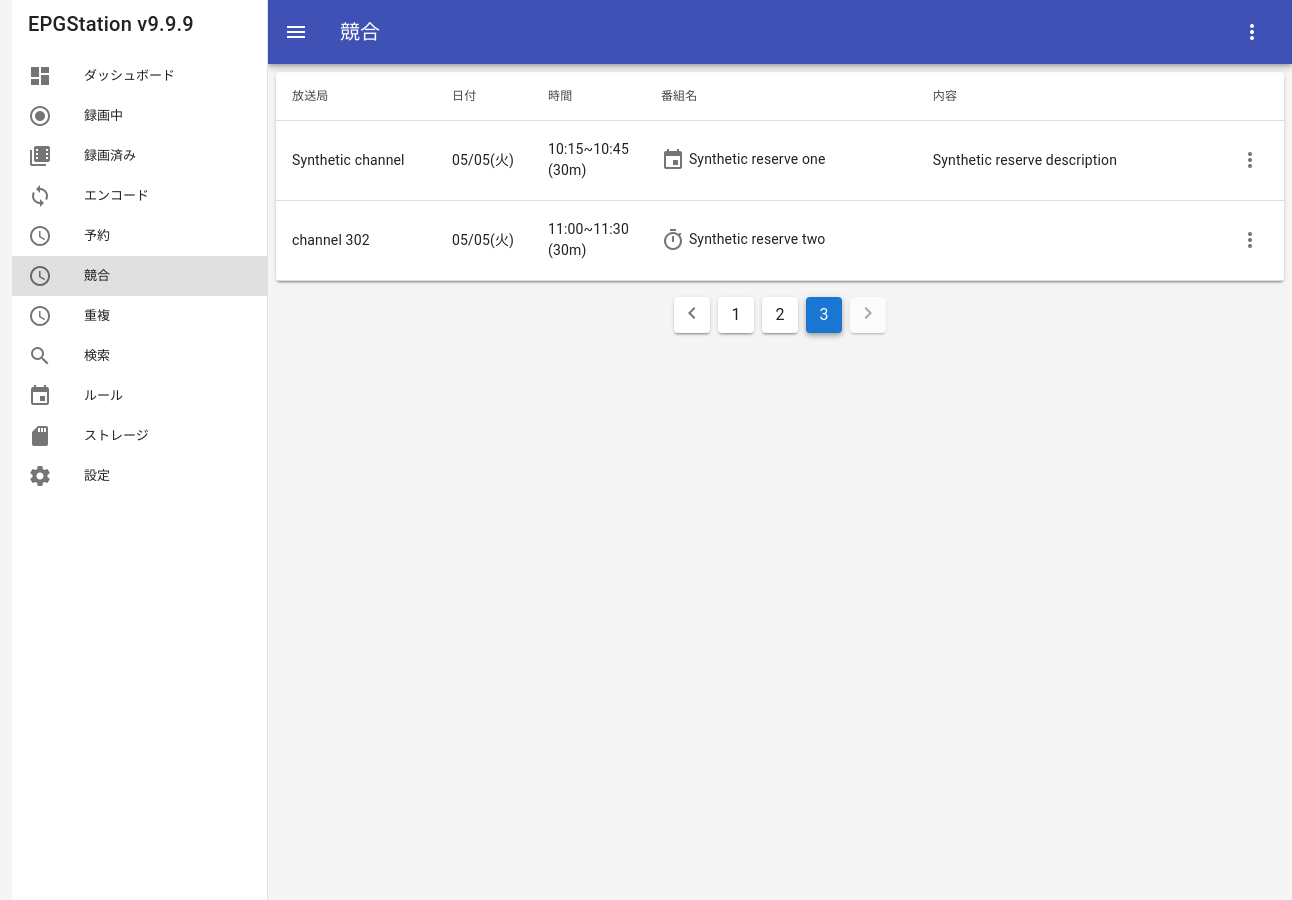
Reserves dialog and keyboard interaction › [AC 3.4] toggles edit selection from keyboard without opening the dialog
Expected: the text "Synthetic reserve one" is shown, [689, 151, 826, 167]
What coordinates should you click on to do the following:
click the button named "予約メニュー"
I would click on:
 (1252, 32)
Its box is [1228, 8, 1276, 56].
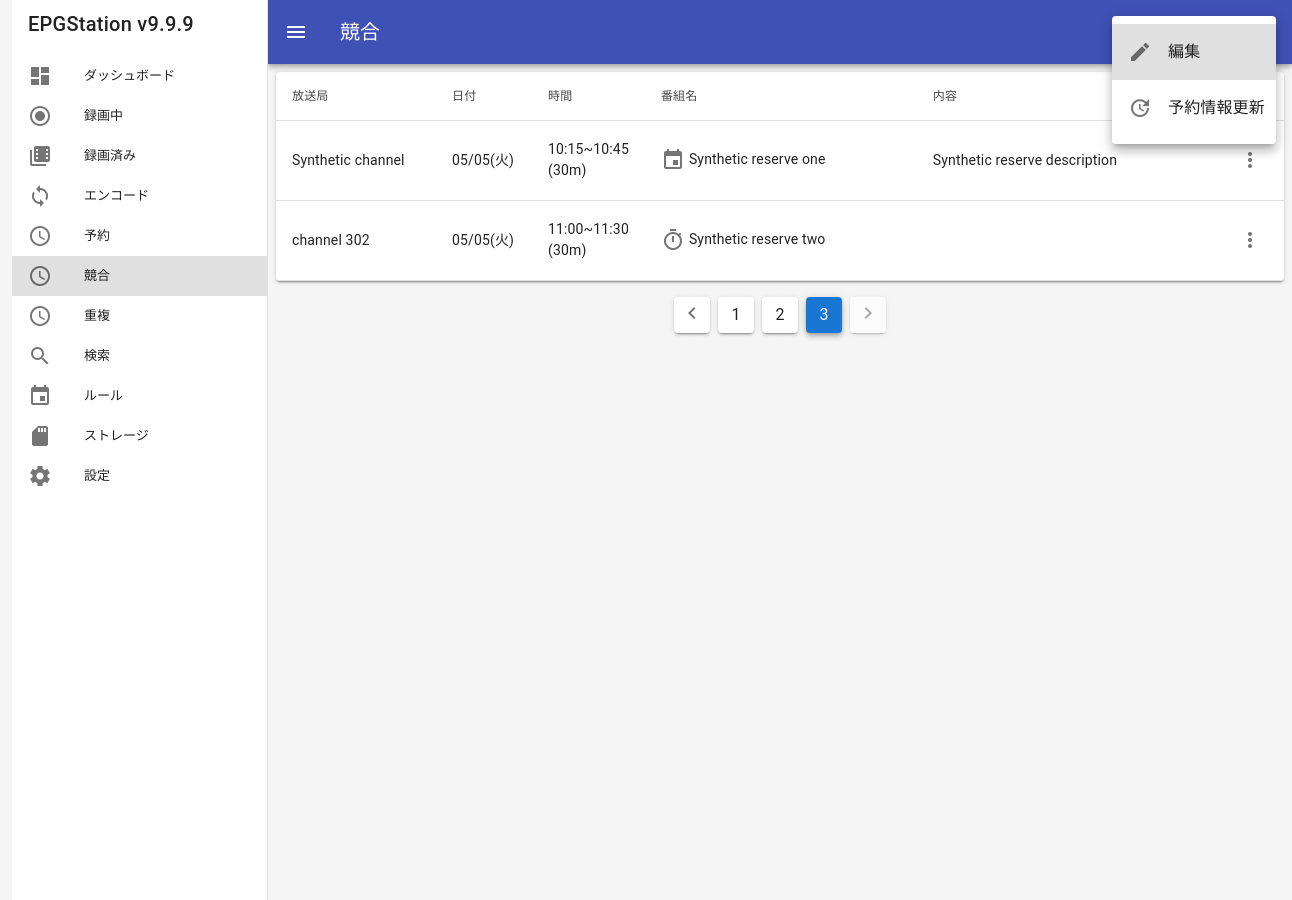
What coordinates should you click on to do the following:
click the menu item "編集"
I would click on:
 (1194, 52)
Its box is [1112, 24, 1276, 80].
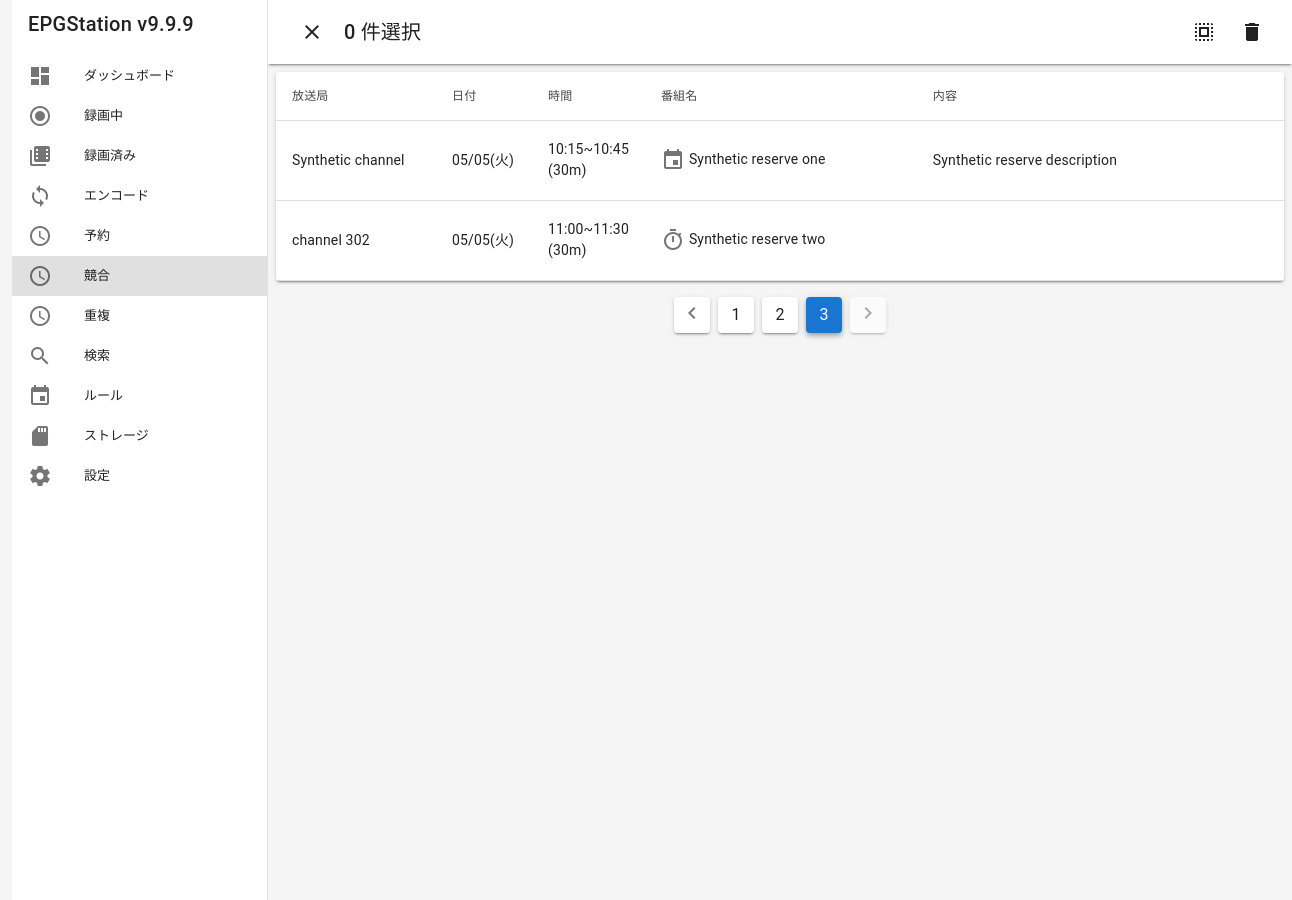
Expected: the text "Synthetic reserve one" is shown, [689, 151, 826, 167]
What coordinates should you click on to do the following:
click the text "Synthetic reserve one"
I would click on:
 (780, 160)
Its box is [276, 120, 1284, 200].
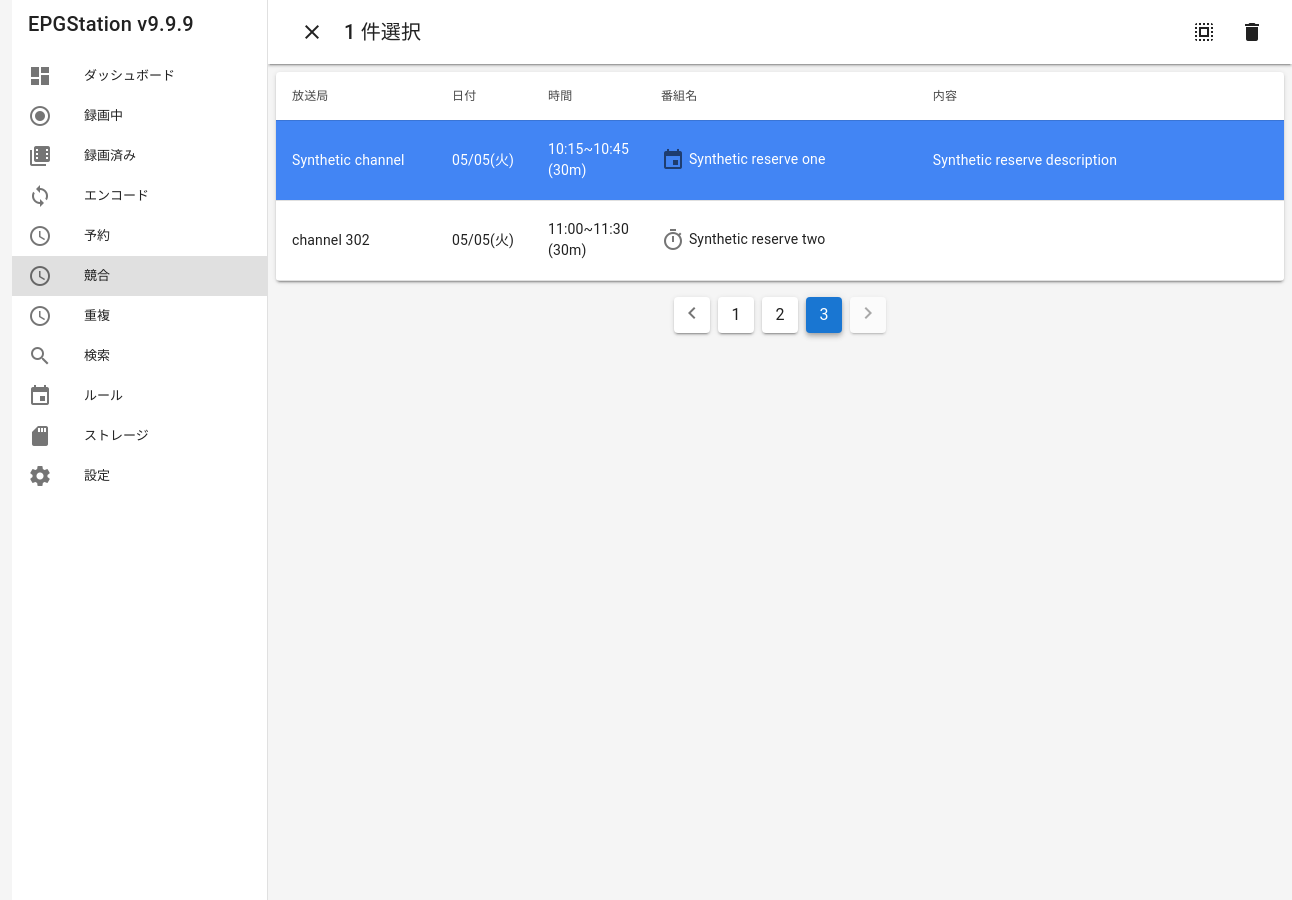
Result: the header with test id "edit-title-bar" reads "1 件選択" at [344, 20, 421, 44]
